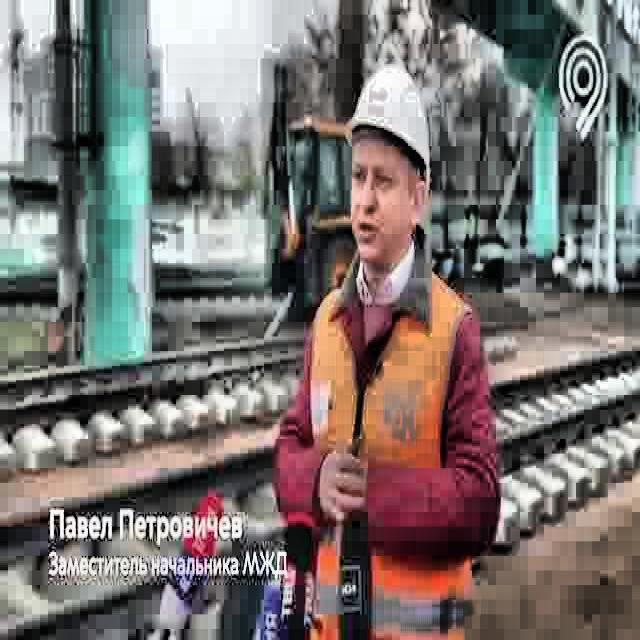safety_helmet: (344, 64, 430, 188)
safety_jacket: (310, 258, 476, 640)
